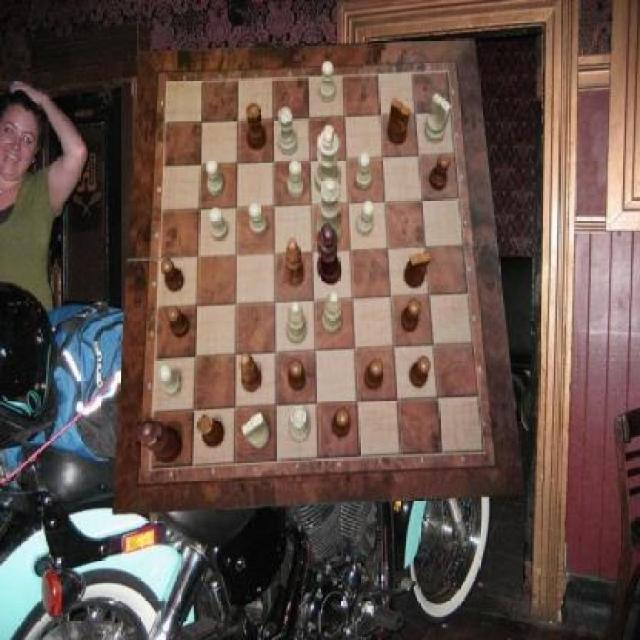bishop: (286, 239, 306, 286), (240, 352, 262, 392)
black-bishop: (318, 223, 342, 285)
black-king: (404, 251, 432, 288), (388, 99, 410, 144)
black-knight: (160, 258, 184, 292), (168, 306, 190, 339), (431, 156, 451, 192), (402, 298, 422, 332), (411, 357, 432, 389), (288, 360, 305, 392), (365, 360, 382, 391), (332, 409, 350, 438)
black-pawn: (139, 417, 183, 462)
black-queen: (197, 414, 225, 448), (246, 103, 266, 149)
black-rook: (322, 290, 342, 334), (286, 301, 306, 344)
white-bishop: (315, 124, 340, 196)
white-king: (424, 94, 450, 144), (243, 412, 271, 447)
white-knight: (160, 365, 183, 397), (209, 208, 229, 242), (206, 159, 224, 196), (318, 62, 334, 103), (355, 200, 373, 236), (249, 203, 267, 237), (356, 152, 372, 190), (288, 162, 304, 199)
white-pawn: (317, 179, 343, 246)
white-queen: (278, 108, 298, 155), (289, 406, 310, 442)
